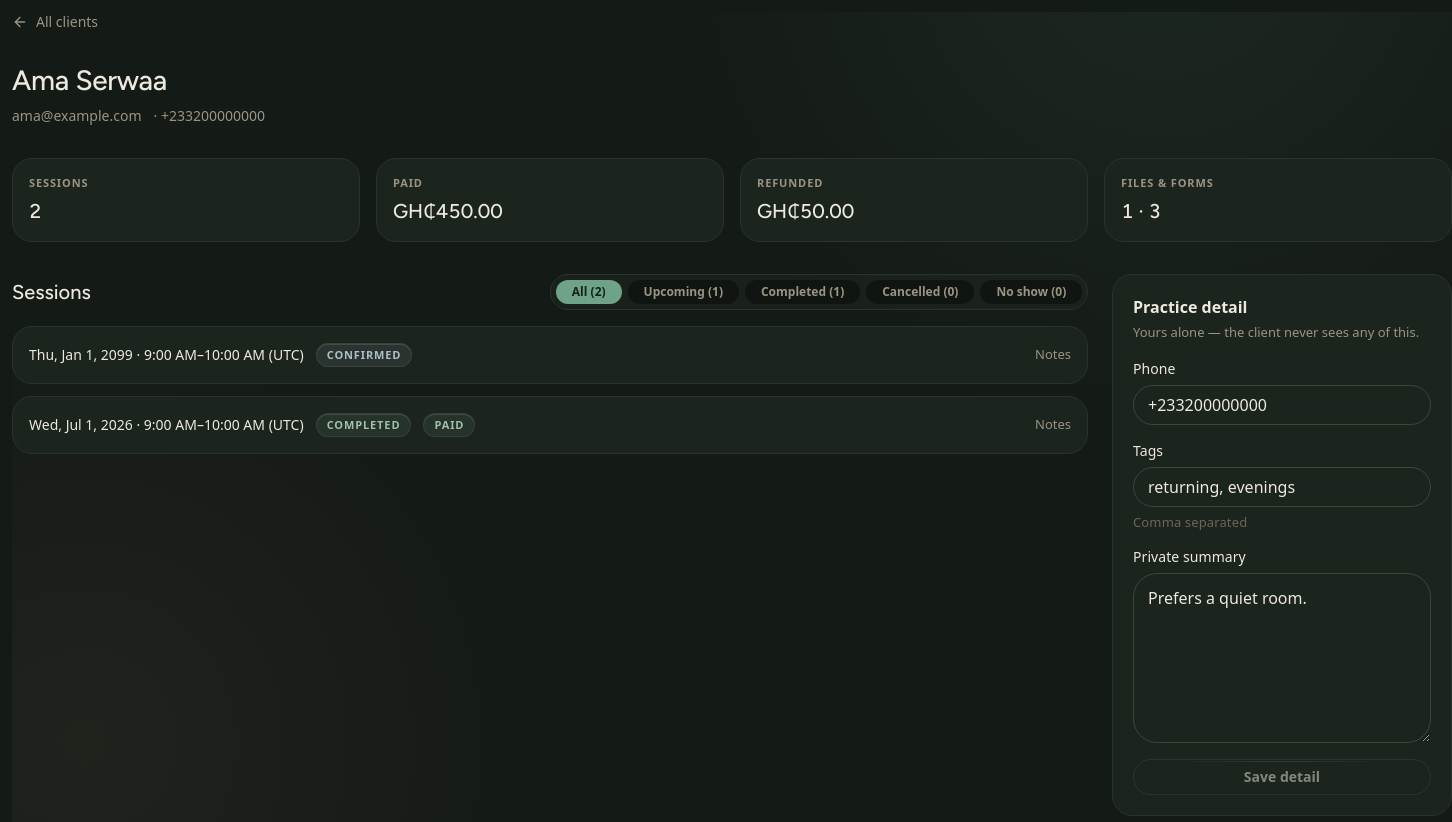
Test: ClientRecordPage › reports a genuine failure to load notes
Check: the heading "Ama Serwaa" is shown, box [12,64,167,98]
Click the button "Notes".
click(81, 425)  # box [13,397,1087,453]
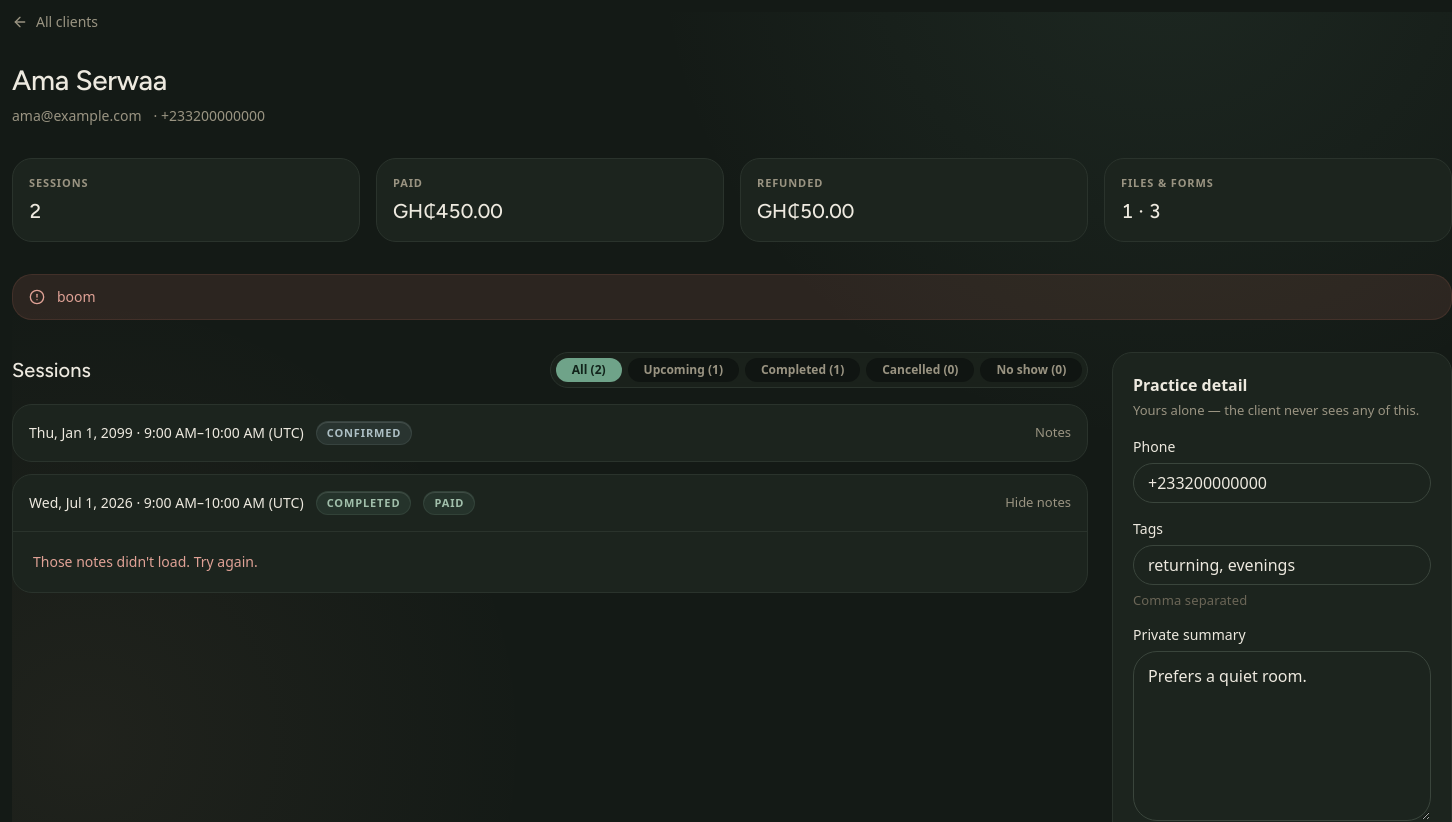
Check: the element with id "notes-bk-past" shows "Those notes didn't load", box [33,552,258,571]
